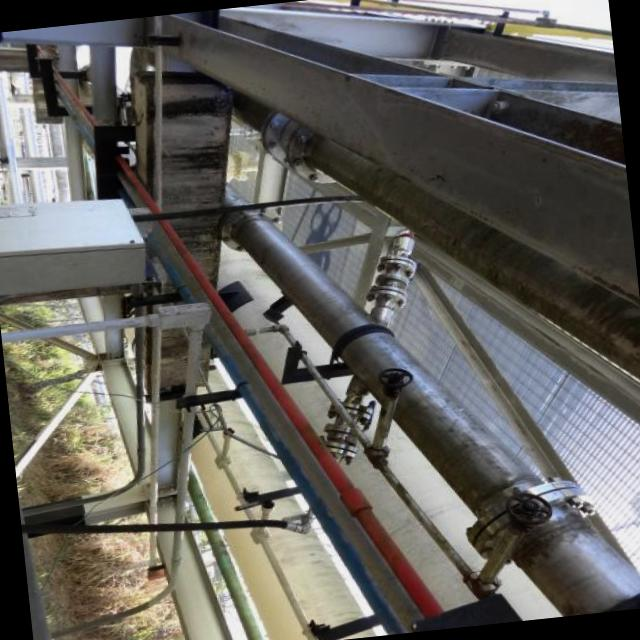gas: (214, 192, 640, 616), (113, 148, 440, 621), (139, 227, 405, 634), (185, 477, 267, 640)
